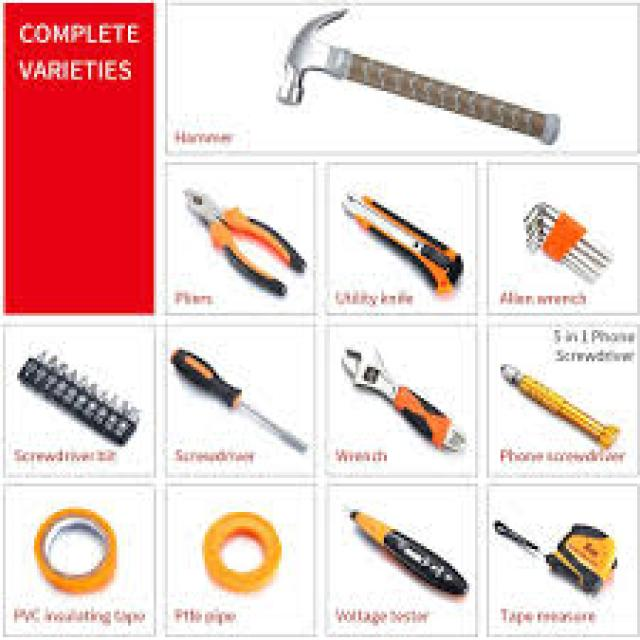hammer: (258, 4, 604, 154)
screw driver: (168, 324, 310, 464)
wrench: (320, 333, 469, 472)
